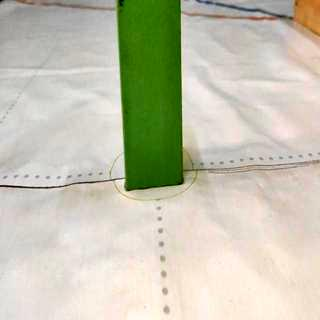greenbox: (115, 2, 188, 194)
